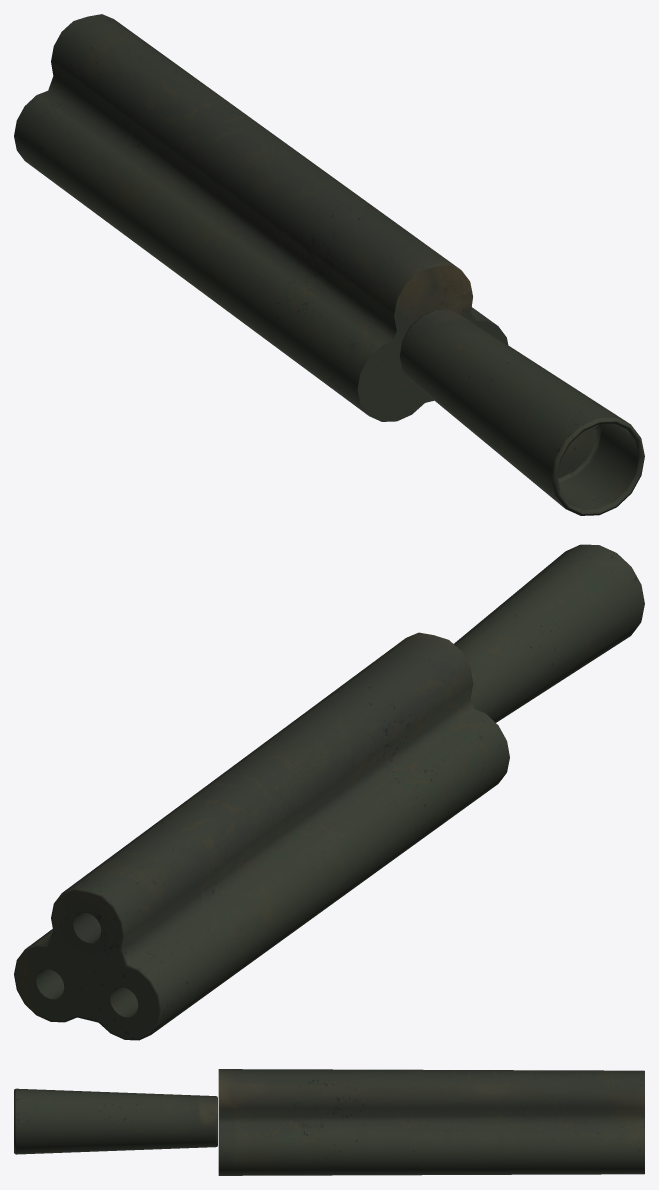
Rendered from SM_Three_Barrel_Gun.fbx.
The picture shows the model from 3 angles, top to bottom: view 1: azimuth 30°, elevation 25°; view 2: azimuth 150°, elevation 25°; view 3: azimuth 270°, elevation 25°; orthographic projection. The views are drawn at different scales.
Visible parts, largest first — view 1: SM_Three_Barrel_Gun; view 2: SM_Three_Barrel_Gun; view 3: SM_Three_Barrel_Gun.
Part boxes in pixels (x1,y1,x2,y2): SM_Three_Barrel_Gun: (14,14,644,515); SM_Three_Barrel_Gun: (14,544,644,1040); SM_Three_Barrel_Gun: (14,1069,644,1175).
Size of the model in its own units: 6.5 by 37.85 by 5.91.
